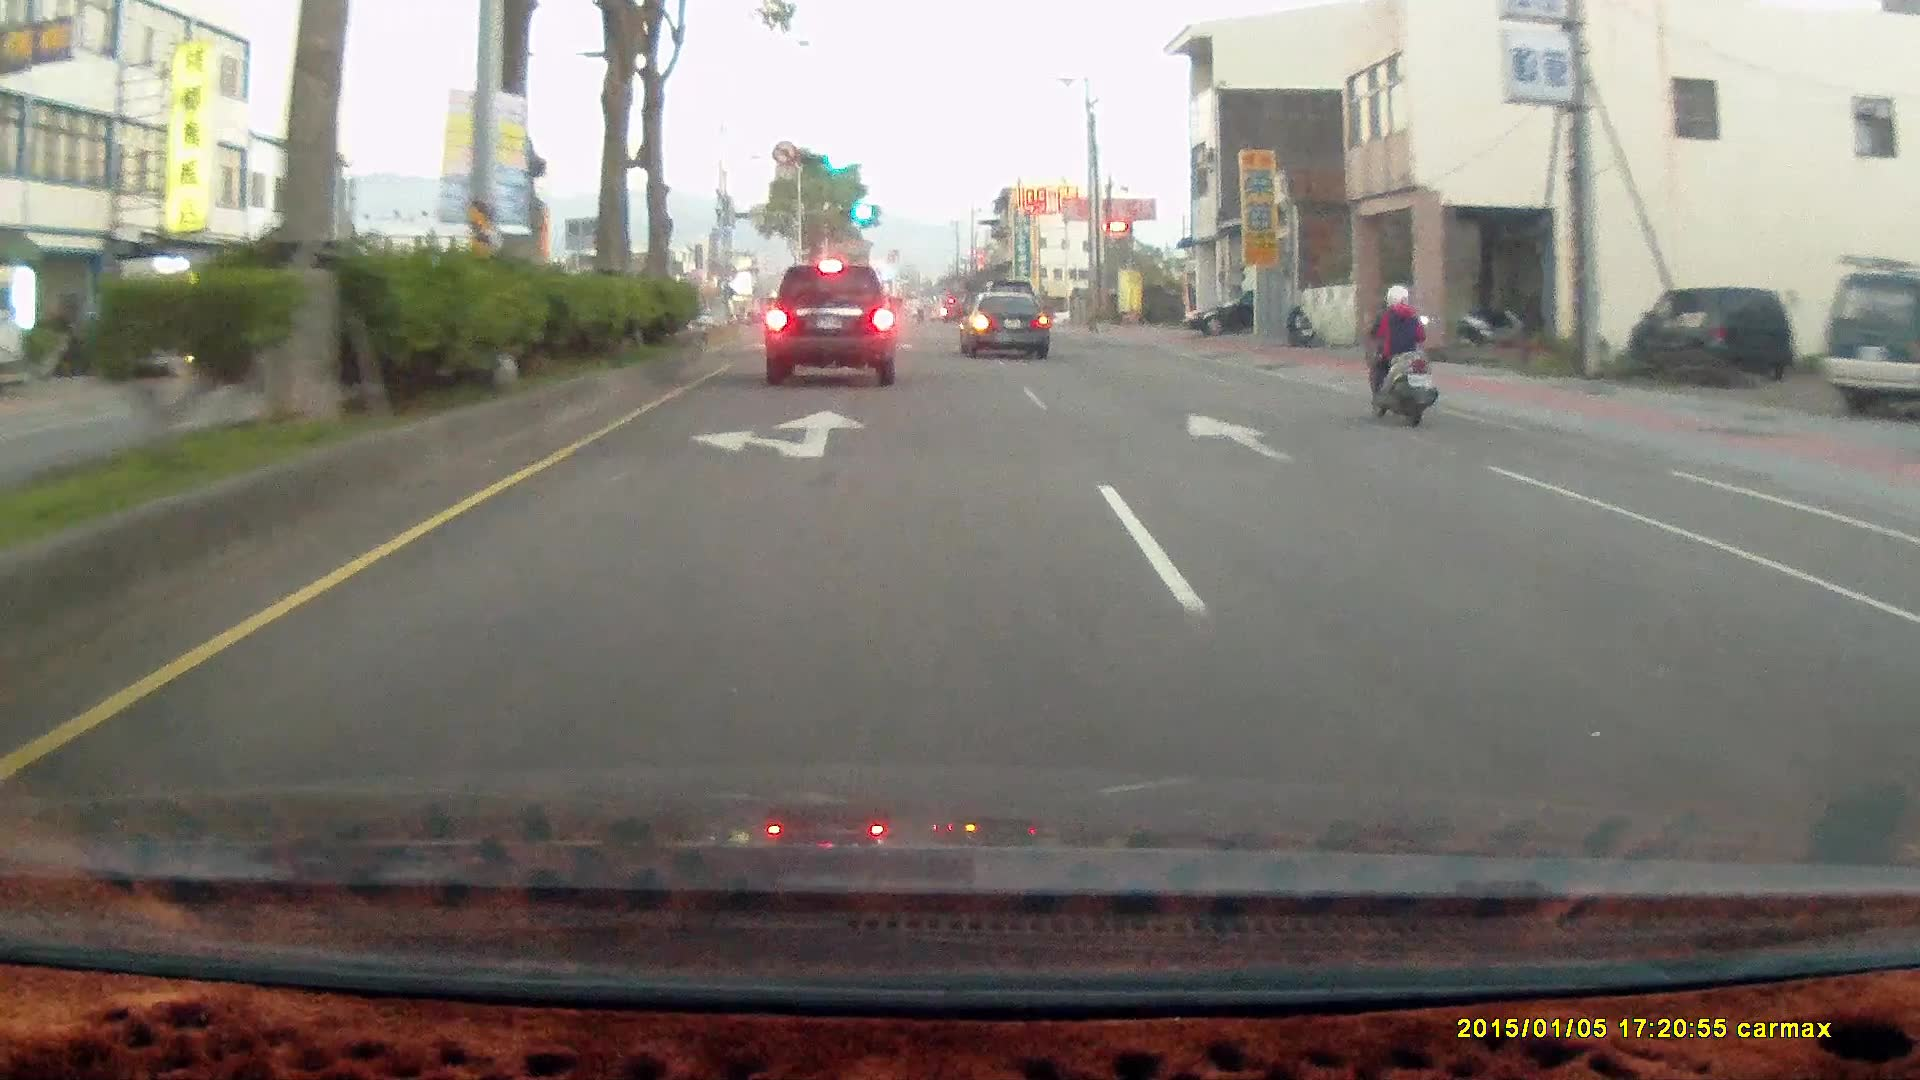rider: (1346, 269, 1453, 436), (1359, 281, 1438, 426)
vehicle: (1625, 282, 1795, 381), (765, 263, 902, 385), (1626, 284, 1793, 382), (766, 259, 900, 382), (1822, 272, 1920, 420), (1821, 272, 1919, 419), (957, 290, 1054, 363), (1183, 286, 1310, 336), (957, 292, 1047, 358), (1183, 288, 1258, 339)
